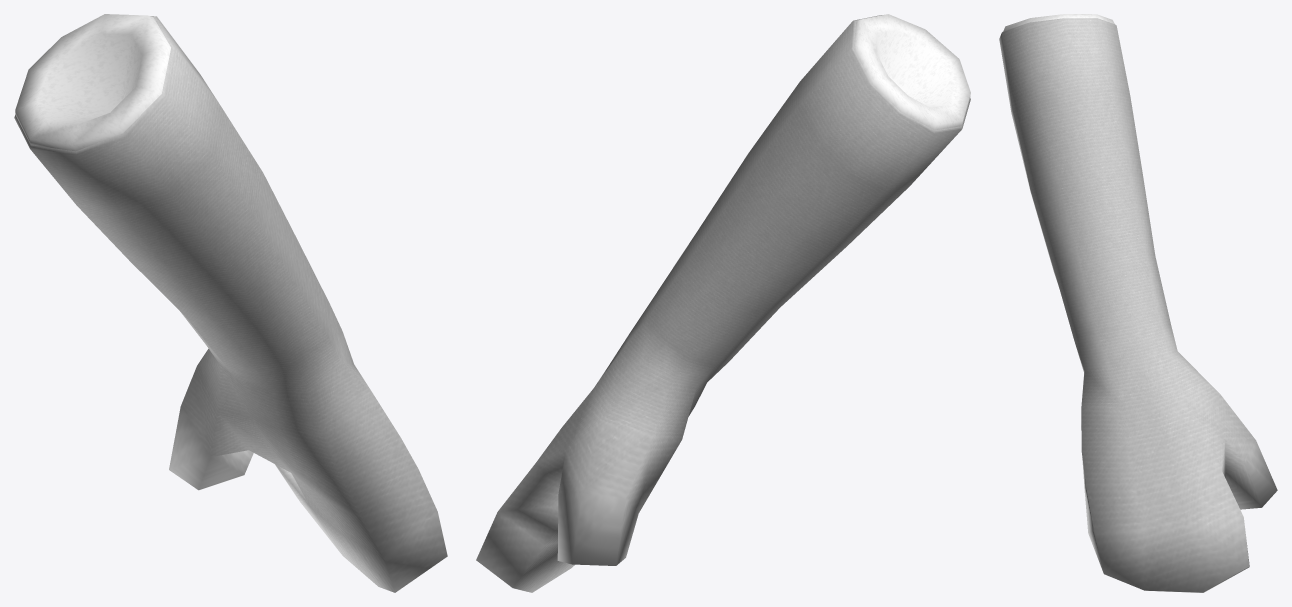
3 renders of one model, left to right at view 1: azimuth 30°, elevation 25°; view 2: azimuth 150°, elevation 25°; view 3: azimuth 270°, elevation 25°, orthographic. The views are drawn at different scales.
Visible parts, largest first — view 1: geometry_0; view 2: geometry_0; view 3: geometry_0.
Boxes of the visible parts, x1,y1,x2,y2 form: geometry_0: (14, 14, 447, 592); geometry_0: (476, 14, 970, 592); geometry_0: (999, 14, 1277, 592).
Bounding box in the file's own units: 0.8445 × 1.19 × 0.63.
Materials: 1 (1 with a texture image).
